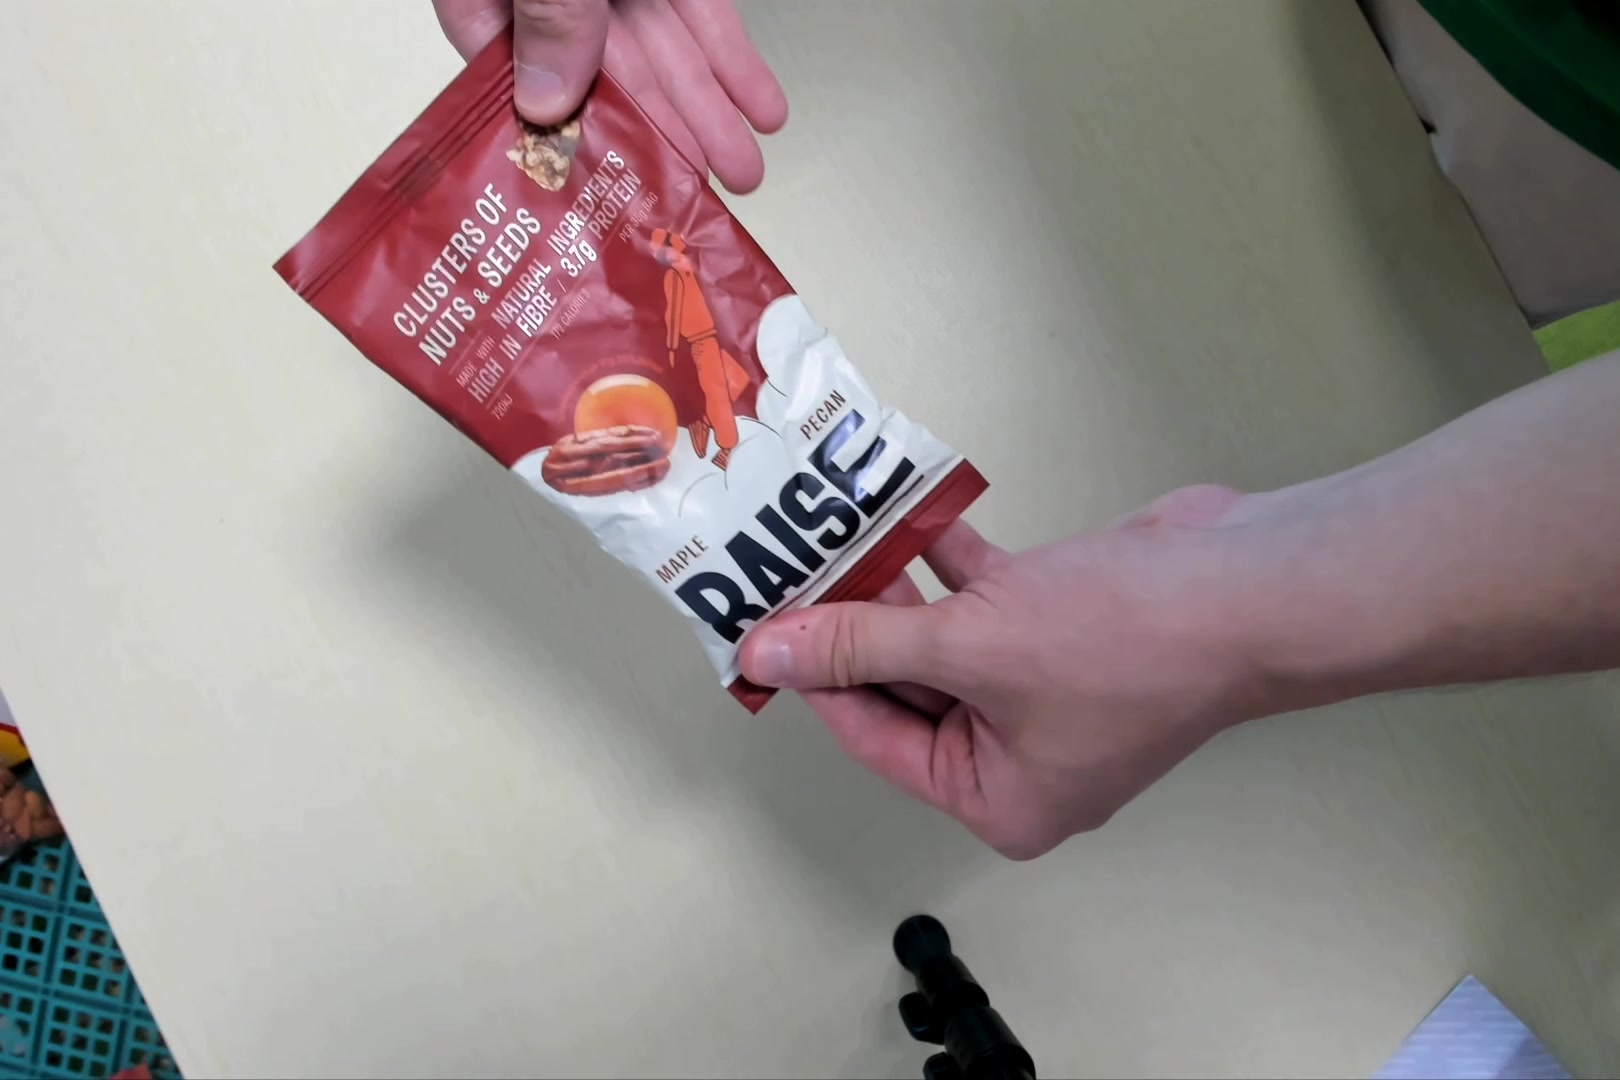Nuts_0-99g_NonHalal_NonHealthy: (290, 46, 984, 714)
